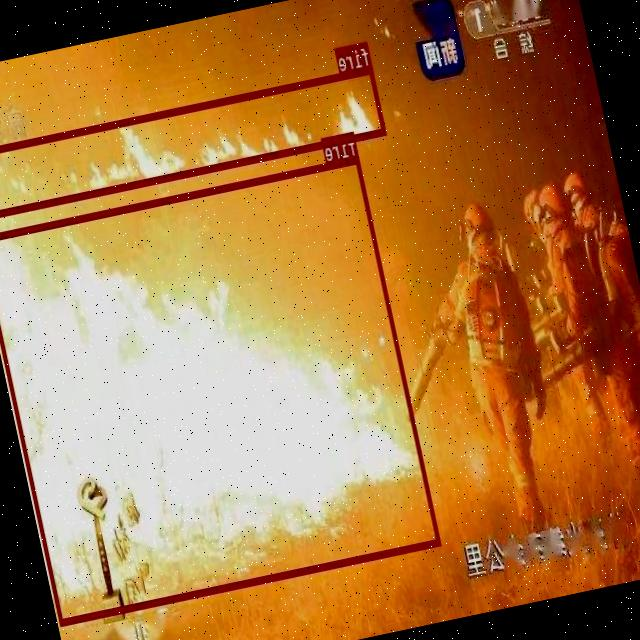fire: (0, 154, 441, 623), (0, 64, 387, 216)
